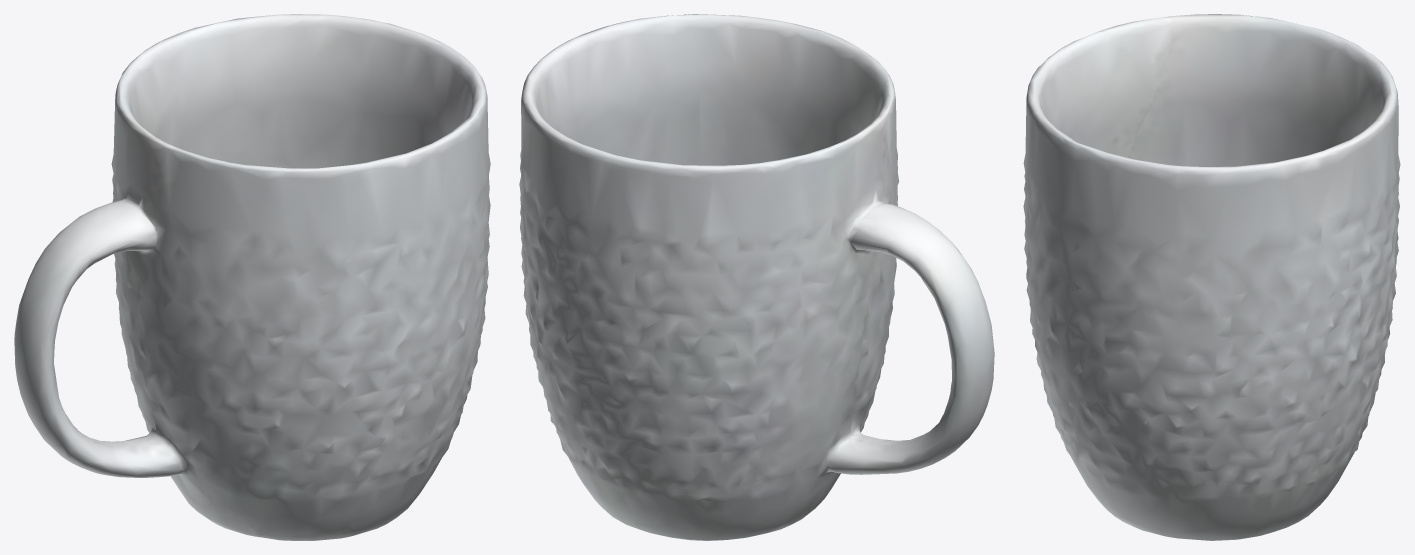
File: Threshold_Porcelain_Coffee_Mug_All_Over_Bead_White-high.glb
The picture shows the model from 3 angles, left to right: view 1: azimuth 30°, elevation 25°; view 2: azimuth 150°, elevation 25°; view 3: azimuth 270°, elevation 25°; orthographic projection.
Visible parts, largest first — view 1: Threshold_Porcelain_Coffee_Mug_All_Over_Bead_White; view 2: Threshold_Porcelain_Coffee_Mug_All_Over_Bead_White; view 3: Threshold_Porcelain_Coffee_Mug_All_Over_Bead_White.
Part boxes in pixels (x1=…): Threshold_Porcelain_Coffee_Mug_All_Over_Bead_White: x1=14, y1=14, x2=490, y2=540; Threshold_Porcelain_Coffee_Mug_All_Over_Bead_White: x1=519, y1=14, x2=994, y2=540; Threshold_Porcelain_Coffee_Mug_All_Over_Bead_White: x1=1023, y1=14, x2=1400, y2=540.
Bounding box in the file's own units: 0.1307 × 0.1146 × 0.0965.
Materials: 1 (1 with a texture image).
